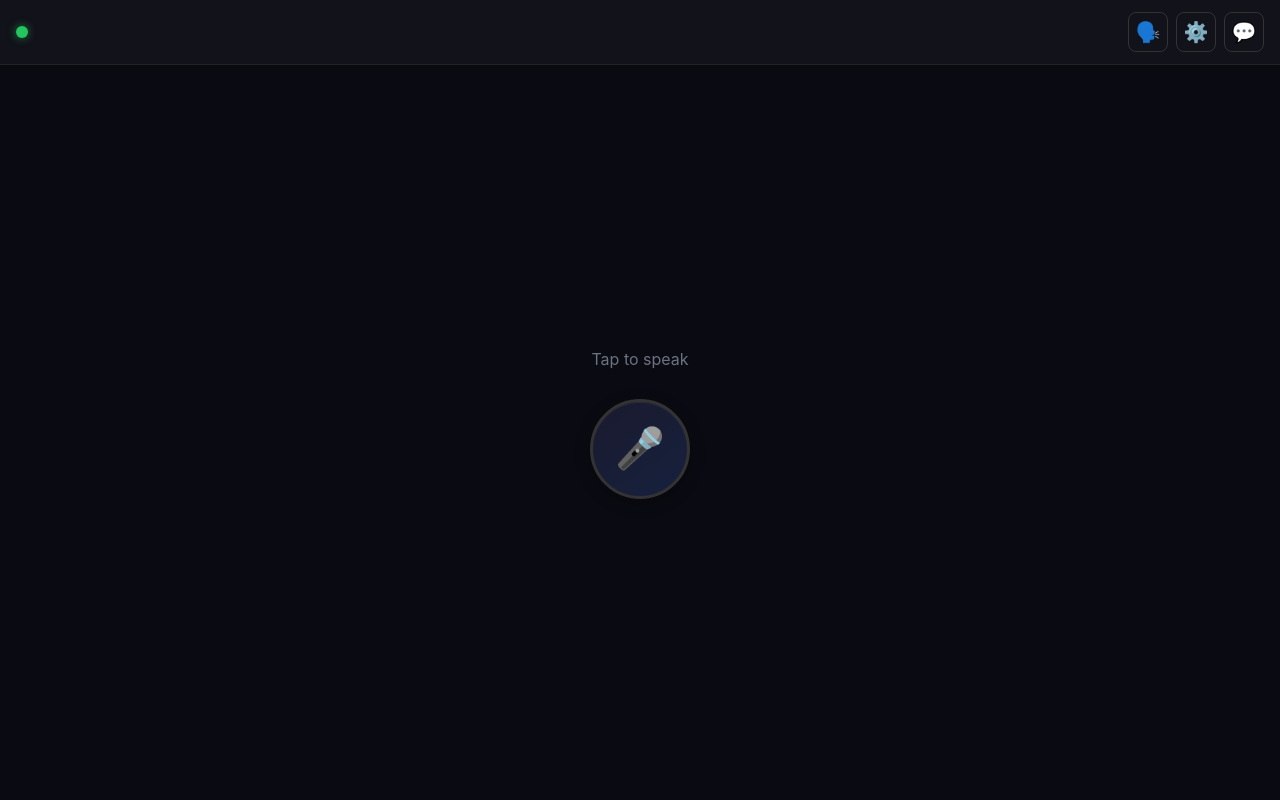
Test case: MobileMode › header toggle button › shows oscilloscope when in unified mode
# Click header toggle to switch to unified mode
What coordinates should you click on to do the following:
click the button named "switch to unified mode"
I would click on:
 (1148, 32)
Its box is [1128,12,1168,52].
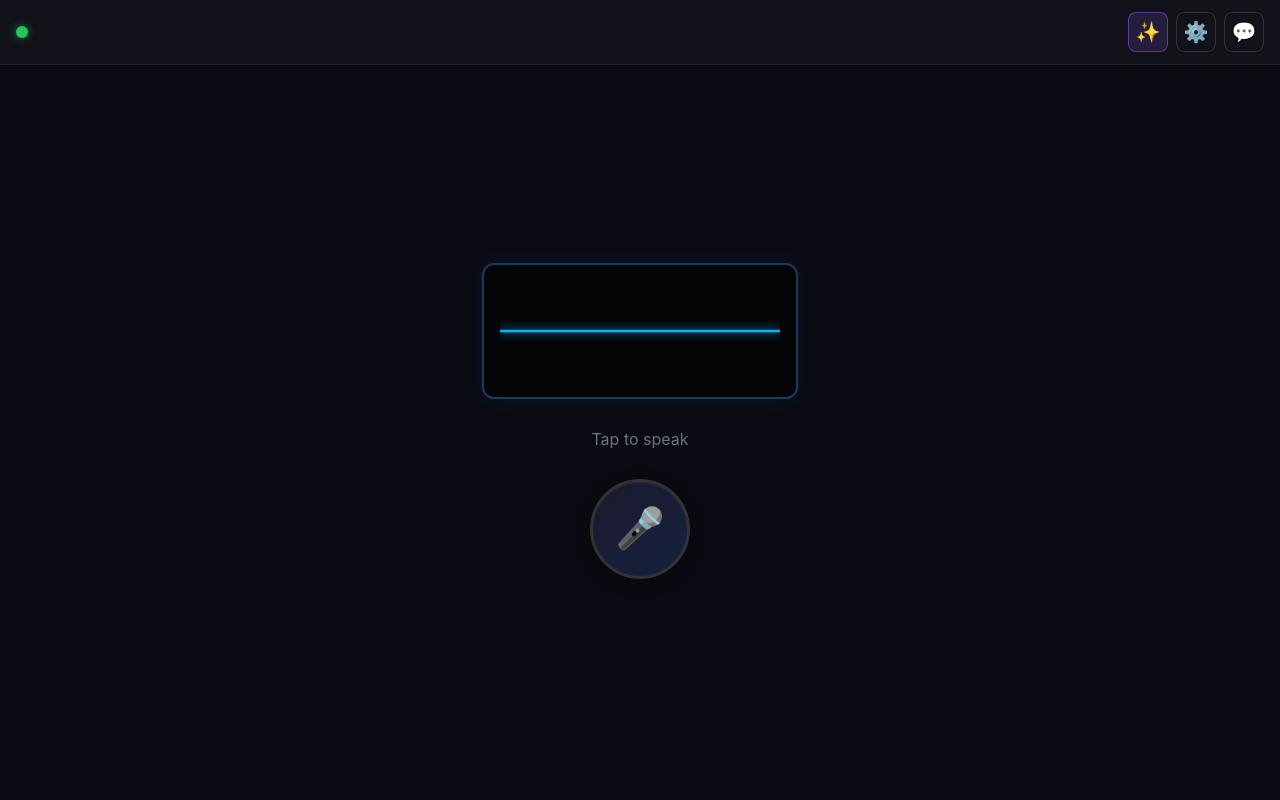
Result: the element with class "walkie-oscilloscope" is shown at [482,262,798,398]
